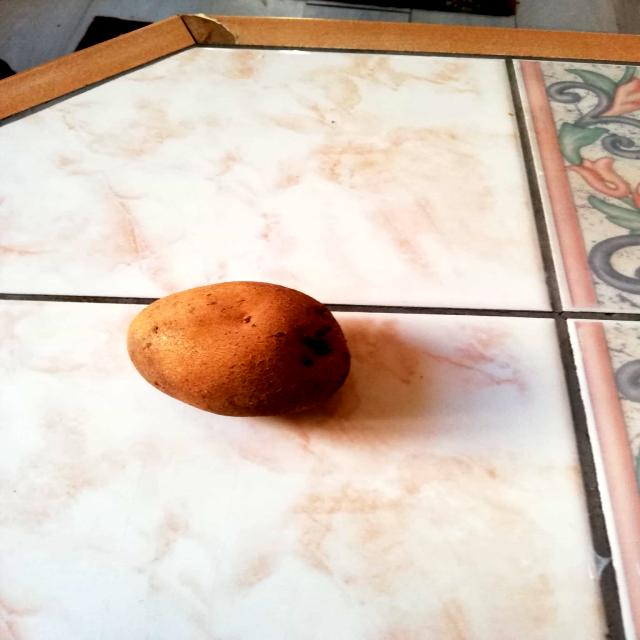potato: (116, 270, 362, 425)
